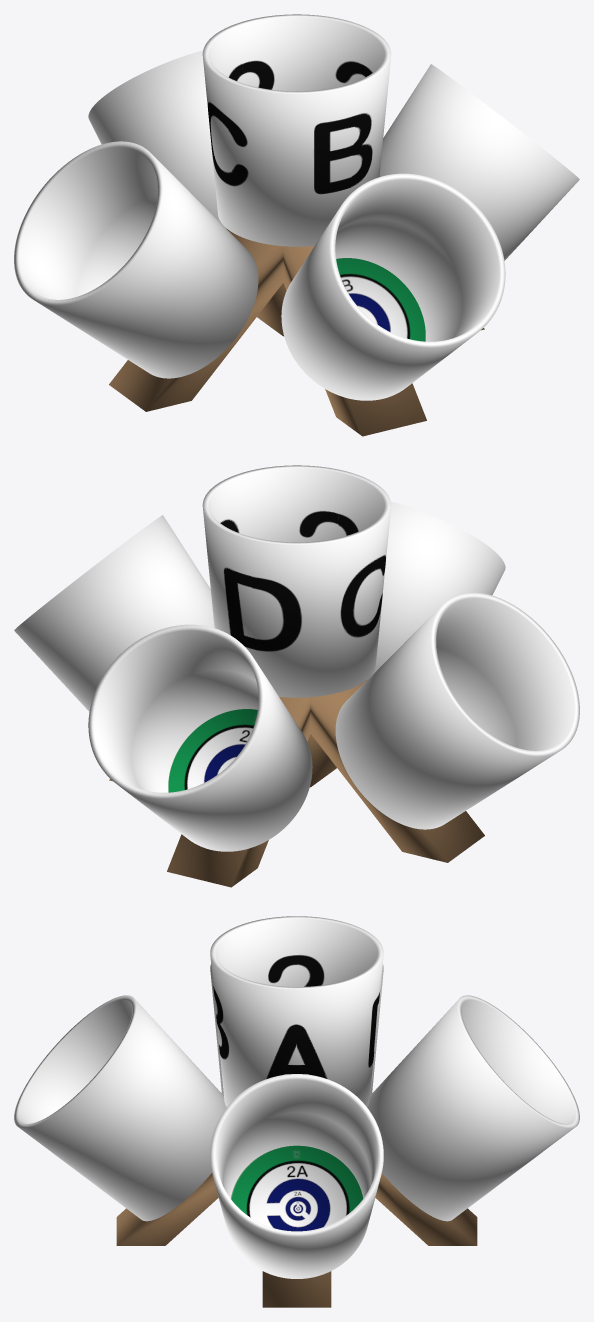
Rendered from target_2.dae.
The picture shows the model from 3 angles, top to bottom: view 1: azimuth 30°, elevation 25°; view 2: azimuth 150°, elevation 25°; view 3: azimuth 270°, elevation 25°; orthographic projection. The views are drawn at different scales.
Visible parts, largest first — view 1: target; view 2: target; view 3: target.
Boxes of the visible parts, <box> form: target: <box>14,14,579,436</box>; target: <box>14,465,579,887</box>; target: <box>14,916,579,1307</box>.
Size of the model in its own units: 0.8229 by 0.8229 by 0.4471.
Materials: 6 (6 with a texture image).
